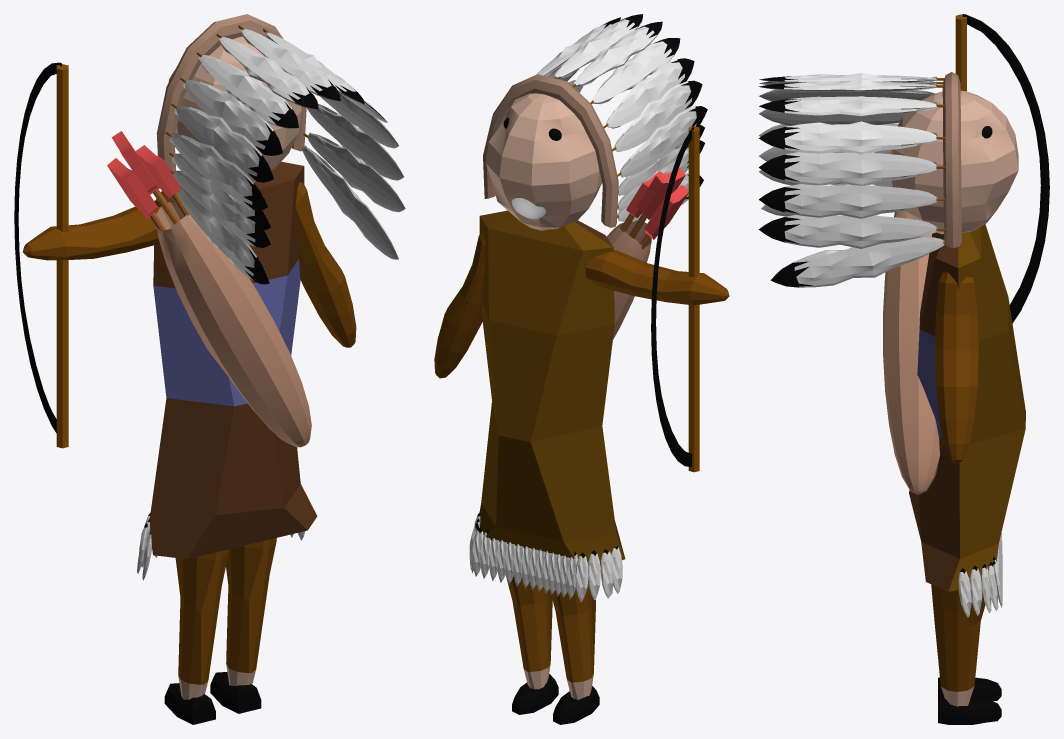
File: Indi.fbx
3 views of the same model, side by side, from view 1: azimuth 30°, elevation 25°; view 2: azimuth 150°, elevation 25°; view 3: azimuth 270°, elevation 25° (orthographic). The views are drawn at different scales.
Parts seen in each view (by area): view 1: pCylinder3, pSphere4, pSphere19, pasted__pasted__pasted__pasted__pSphere7, pasted__pasted__pasted__pasted__pasted__pSphere7, pasted__pSphere7, pCylinder4, pSphere7, pSphere10, pSphere17, pasted__pasted__pasted__pSphere13, pasted__pasted__pSphere13; view 2: pSphere4, pCylinder3, pSphere17, pSphere7, pSphere19, pCylinder4, pasted__pSphere7, pasted__pasted__pasted__pasted__pSphere7, pasted__pasted__pasted__pasted__pasted__pSphere7, pSphere10, pasted__pasted__pasted__pSphere13, pasted__pasted__pSphere13 (+2 smaller); view 3: pCylinder3, pSphere4, pSphere17, pSphere19, pasted__pSphere7, pasted__pasted__pasted__pasted__pasted__pSphere7, pSphere10, pasted__pasted__pasted__pSphere13, pasted__pasted__pSphere15 (×2), pCylinder4, pasted__pasted__pSphere13.
Boxes of the visible parts, left/top/right/bottom form: pCylinder3: left=156, top=14, right=405, bottom=284; pSphere4: left=149, top=161, right=317, bottom=559; pSphere19: left=107, top=131, right=311, bottom=447; pasted__pasted__pasted__pasted__pSphere7: left=175, top=549, right=228, bottom=699; pasted__pasted__pasted__pasted__pasted__pSphere7: left=226, top=538, right=276, bottom=685; pasted__pSphere7: left=295, top=182, right=356, bottom=347; pCylinder4: left=56, top=64, right=68, bottom=448; pSphere7: left=23, top=200, right=159, bottom=260; pSphere10: left=14, top=62, right=61, bottom=432; pSphere17: left=168, top=36, right=301, bottom=182; pasted__pasted__pasted__pSphere13: left=210, top=672, right=261, bottom=713; pasted__pasted__pSphere13: left=164, top=683, right=215, bottom=724; pSphere4: left=479, top=210, right=625, bottom=566; pCylinder3: left=483, top=14, right=707, bottom=227; pSphere17: left=485, top=93, right=601, bottom=230; pSphere7: left=585, top=250, right=729, bottom=305; pSphere19: left=606, top=167, right=688, bottom=339; pCylinder4: left=688, top=126, right=699, bottom=472; pasted__pSphere7: left=434, top=232, right=485, bottom=378; pasted__pasted__pasted__pasted__pSphere7: left=551, top=581, right=595, bottom=699; pasted__pasted__pasted__pasted__pasted__pSphere7: left=505, top=574, right=552, bottom=689; pSphere10: left=651, top=126, right=693, bottom=466; pasted__pasted__pasted__pSphere13: left=512, top=674, right=558, bottom=714; pasted__pasted__pSphere13: left=553, top=686, right=599, bottom=724; pCylinder3: left=758, top=72, right=961, bottom=287; pSphere4: left=909, top=224, right=1025, bottom=591; pSphere17: left=890, top=90, right=1018, bottom=234; pSphere19: left=883, top=211, right=939, bottom=495; pasted__pSphere7: left=934, top=272, right=978, bottom=464; pasted__pasted__pasted__pasted__pasted__pSphere7: left=931, top=437, right=985, bottom=706; pSphere10: left=962, top=14, right=1049, bottom=323; pasted__pasted__pasted__pSphere13: left=938, top=696, right=1001, bottom=724; pasted__pasted__pSphere15 (×2): left=958, top=565, right=982, bottom=617; pCylinder4: left=955, top=14, right=966, bottom=91; pasted__pasted__pSphere13: left=938, top=677, right=1001, bottom=701.
Size of the model in its own units: 0.553 by 1.11 by 0.4625.
